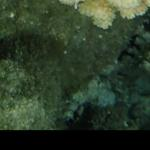dead: (1, 1, 147, 128)
